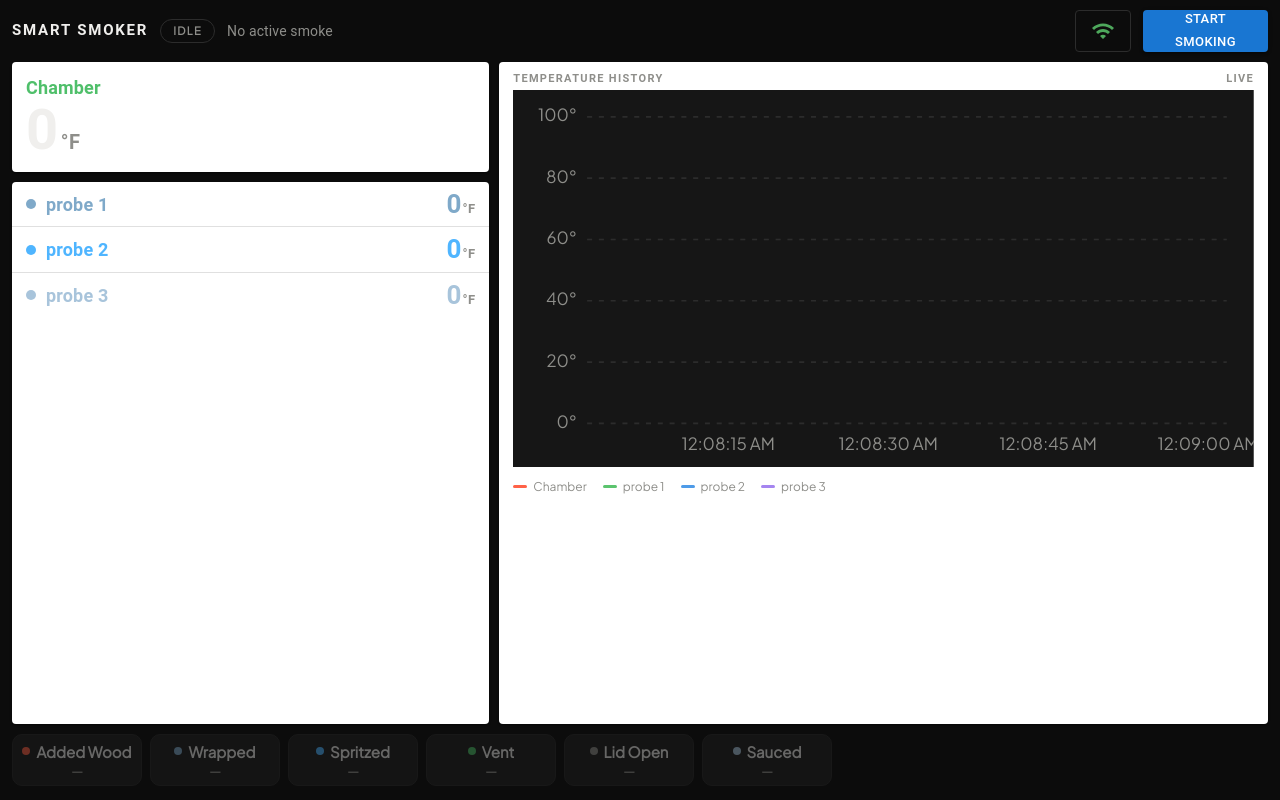
Test: Home — starting a cook over an auto-stopped one › one tap finishes the previous cook, starts a fresh session and lights it
Click the button "Start Smoking". click: point(1206, 31)
box: [1143,10,1268,52]
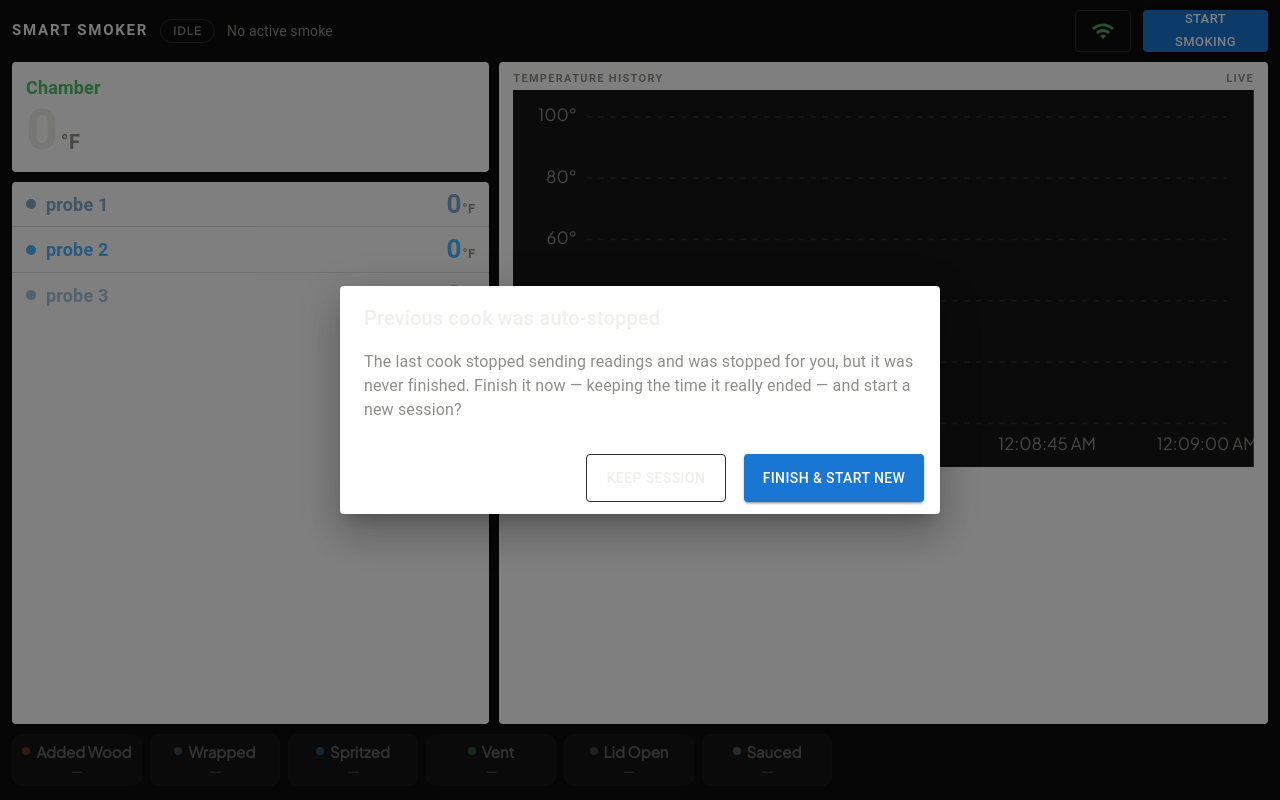
Click the button with test id "stale-cook-confirm". click: point(834, 478)
box: [744,454,924,502]
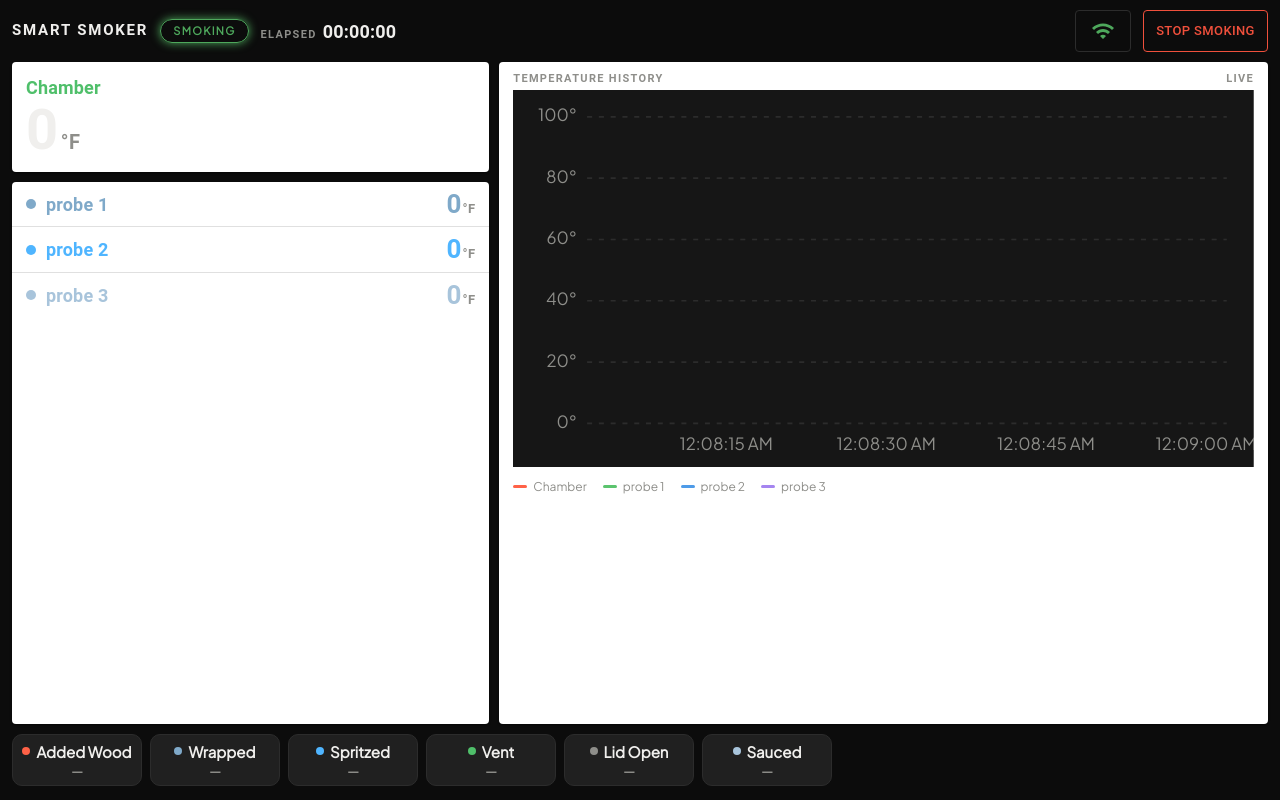
expect the button "Stop Smoking" is shown: met, box [1143,10,1268,52]
